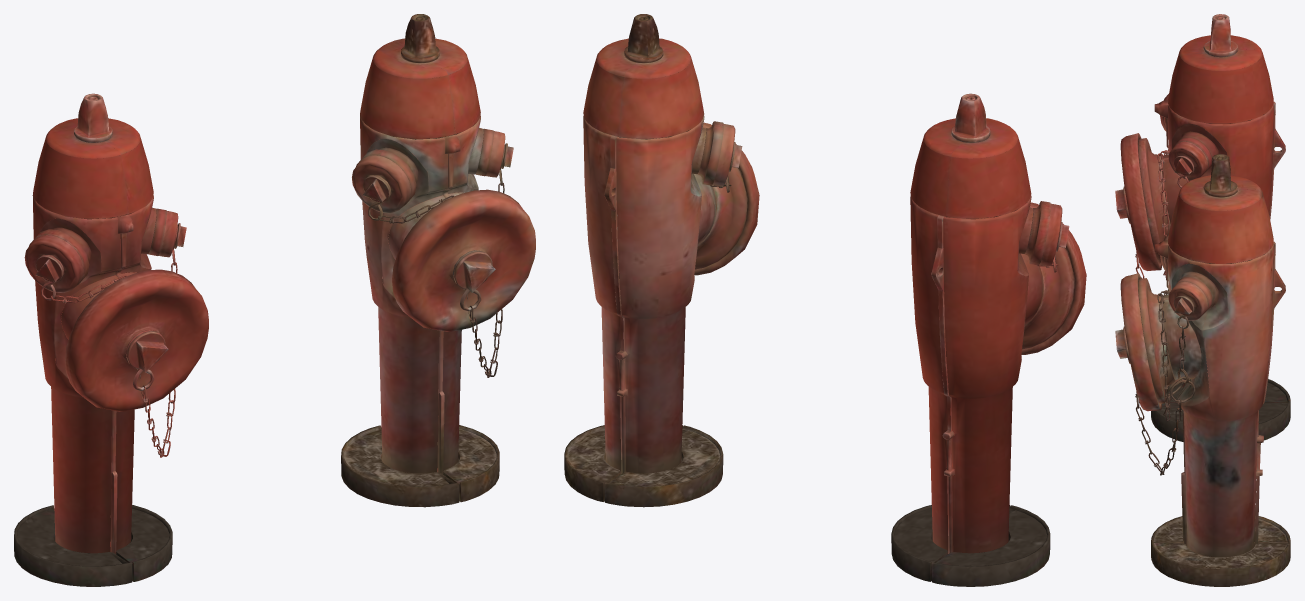
File: fire_hydrant.glb
The picture shows the model from 3 angles, left to right: view 1: azimuth 30°, elevation 25°; view 2: azimuth 150°, elevation 25°; view 3: azimuth 270°, elevation 25°; orthographic projection. The views are drawn at different scales.
Visible parts, largest first — view 1: fire_hydrant, fire_hydrant_aged, fire_hydrant_cap_01_aged, fire_hydrant_cap_01, fire_hydrant_cap_03_aged, fire_hydrant_cap_03, fire_hydrant_chain_aged, fire_hydrant_chain, fire_hydrant_cap_02, fire_hydrant_cap_02_aged; view 2: fire_hydrant, fire_hydrant_aged, fire_hydrant_cap_01_aged, fire_hydrant_cap_01, fire_hydrant_cap_03_aged, fire_hydrant_cap_03; view 3: fire_hydrant_aged, fire_hydrant, fire_hydrant_cap_01, fire_hydrant_cap_01_aged, fire_hydrant_chain_aged, fire_hydrant_cap_02_aged, fire_hydrant_cap_02, fire_hydrant_chain.
Boxes of the visible parts, box(x1,y1,x2,y2) form: fire_hydrant: box(14, 93, 172, 586); fire_hydrant_aged: box(341, 14, 499, 507); fire_hydrant_cap_01_aged: box(392, 189, 535, 331); fire_hydrant_cap_01: box(65, 269, 208, 411); fire_hydrant_cap_03_aged: box(352, 155, 410, 213); fire_hydrant_cap_03: box(24, 235, 83, 292); fire_hydrant_chain_aged: box(368, 145, 505, 377); fire_hydrant_chain: box(41, 225, 178, 457); fire_hydrant_cap_02: box(158, 211, 186, 257); fire_hydrant_cap_02_aged: box(486, 131, 513, 177); fire_hydrant: box(891, 93, 1074, 586); fire_hydrant_aged: box(564, 14, 747, 507); fire_hydrant_cap_01_aged: box(694, 122, 759, 275); fire_hydrant_cap_01: box(1021, 202, 1086, 354); fire_hydrant_cap_03_aged: box(712, 124, 742, 186); fire_hydrant_cap_03: box(1039, 203, 1069, 266); fire_hydrant_aged: box(1138, 154, 1290, 586); fire_hydrant: box(1138, 14, 1290, 441); fire_hydrant_cap_01: box(1115, 133, 1161, 270); fire_hydrant_cap_01_aged: box(1115, 273, 1161, 411); fire_hydrant_chain_aged: box(1135, 289, 1195, 475); fire_hydrant_cap_02_aged: box(1168, 281, 1207, 320); fire_hydrant_cap_02: box(1168, 141, 1207, 180); fire_hydrant_chain: box(1135, 149, 1193, 280).
Size of the model in its own units: 0.8746 by 0.7996 by 0.3176.
Materials: 2 (2 with a texture image).
